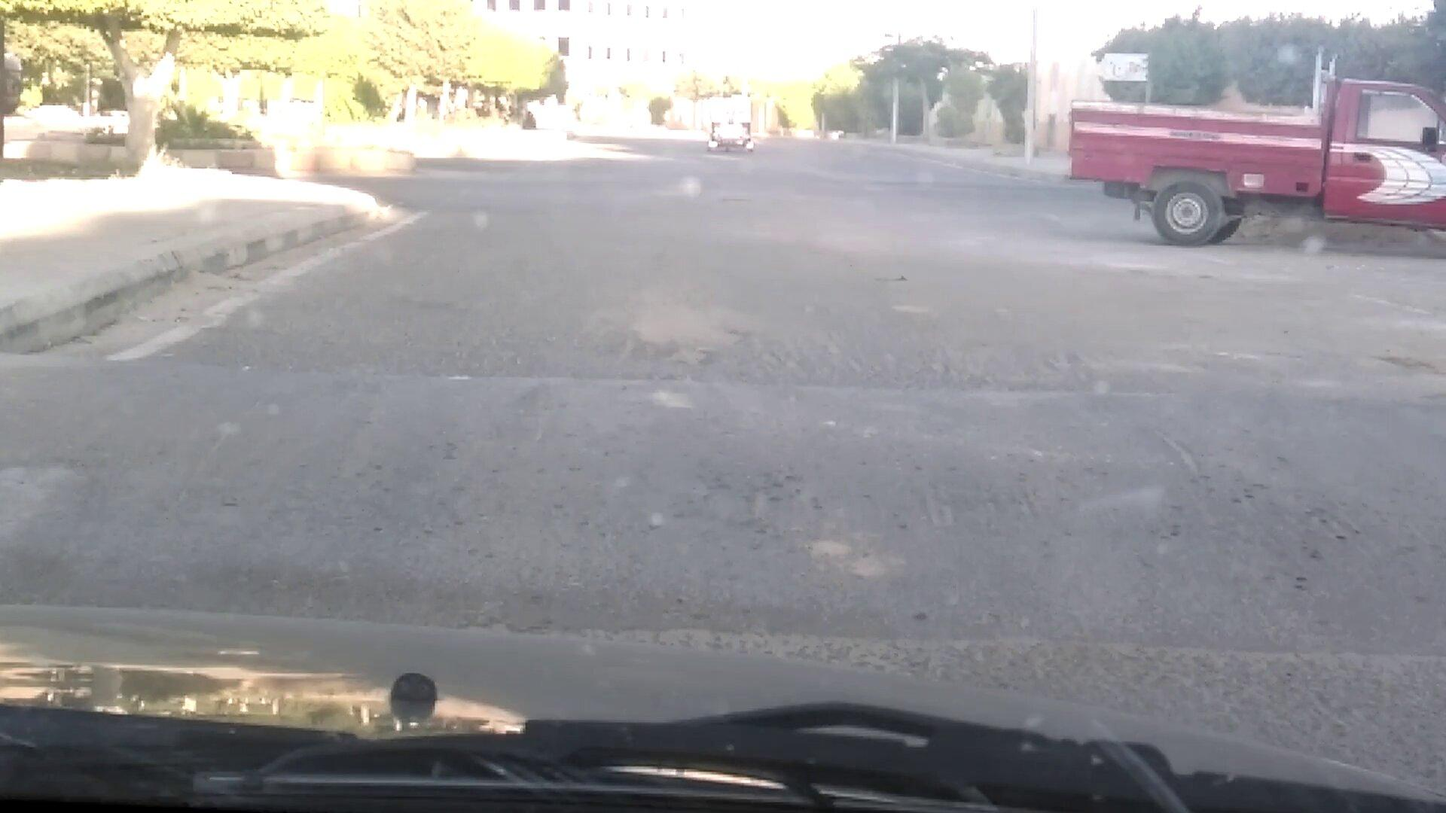Bump: (4, 327, 1446, 630)
